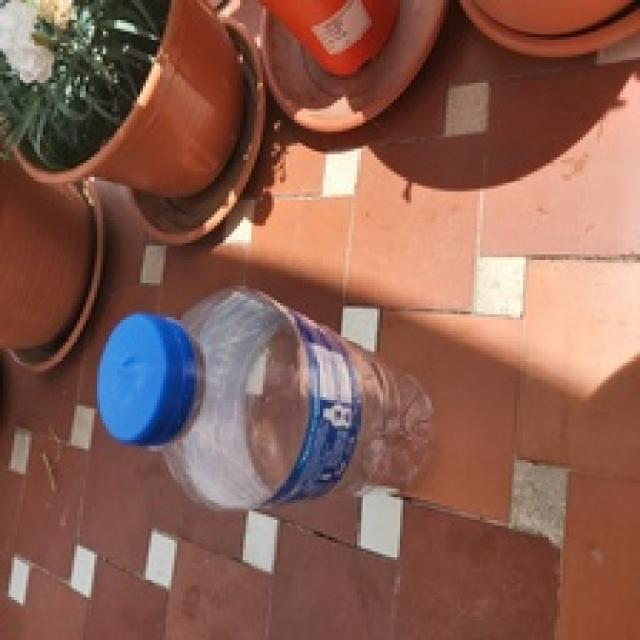Plastic: (93, 286, 434, 510)
